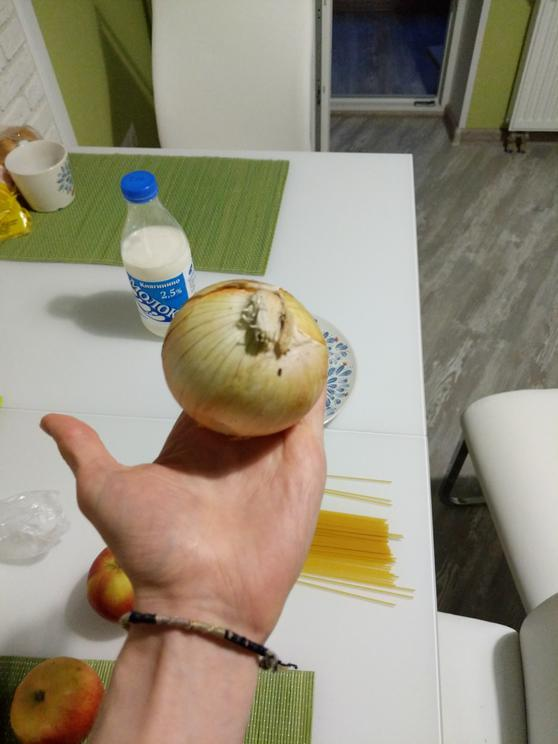milk: (109, 164, 201, 328)
onion: (166, 277, 337, 447)
spaghetti: (291, 468, 419, 613)
